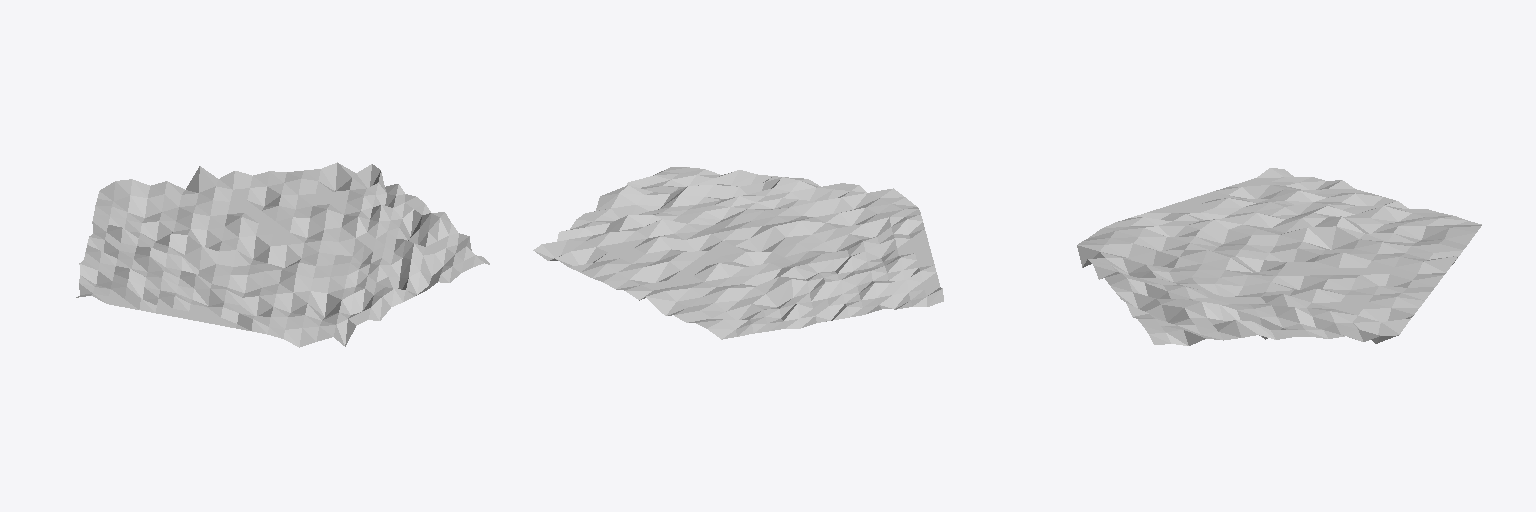
The model's file is simplex.obj.
The picture shows the model from 3 angles: view 1: azimuth 30°, elevation 25°; view 2: azimuth 150°, elevation 25°; view 3: azimuth 270°, elevation 25°; orthographic projection.
Parts seen in each view (by area): view 1: Noisy; view 2: Noisy; view 3: Noisy.
Part boxes in pixels (bbox=[...]): Noisy: bbox=[76, 162, 489, 347]; Noisy: bbox=[533, 167, 943, 339]; Noisy: bbox=[1077, 168, 1481, 345].
Bounding box in the file's own units: 3.14 × 0.2782 × 3.1.